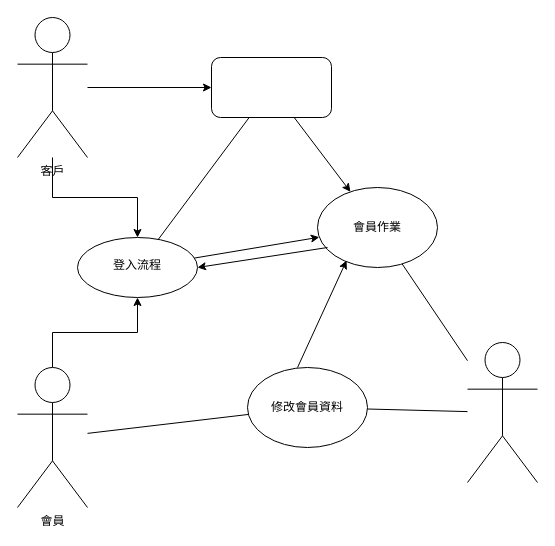
The diagram is 555 pixels wide and 546 high, and some of its shapes have lost their labels. Here are the shapes that lost their labels. From the top down, the box of each, then its label:
(210, 56, 332, 118): 註冊
(466, 342, 538, 482): 業務員
